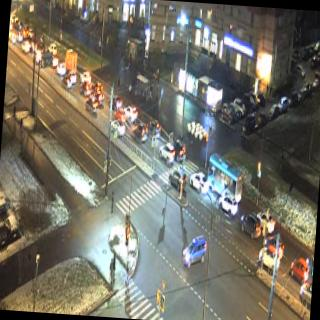large-vehicle: (204, 154, 246, 204), (63, 49, 78, 74)
small-vehicle: (180, 234, 207, 268), (256, 242, 281, 273), (238, 208, 261, 238), (288, 253, 308, 286), (166, 162, 188, 192), (262, 232, 285, 260), (218, 192, 238, 222), (188, 166, 208, 196), (253, 208, 275, 235), (170, 136, 187, 165), (298, 276, 312, 308), (158, 138, 175, 164), (145, 114, 161, 139), (132, 120, 148, 144), (122, 99, 138, 123), (83, 92, 98, 115), (108, 117, 125, 135), (90, 89, 104, 108), (60, 72, 72, 91), (78, 66, 90, 84), (79, 79, 92, 95), (108, 94, 121, 110), (48, 50, 58, 70), (114, 106, 125, 124), (54, 61, 66, 76), (66, 66, 76, 84), (21, 20, 29, 40), (92, 80, 103, 94), (48, 40, 57, 56), (20, 40, 30, 54), (15, 27, 22, 45), (8, 30, 15, 46)
